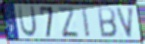7: (39, 5, 55, 39)
B: (97, 7, 119, 39)
I: (80, 6, 92, 39)
U: (17, 5, 39, 38)
V: (115, 7, 136, 40)
Z: (56, 6, 81, 39)
